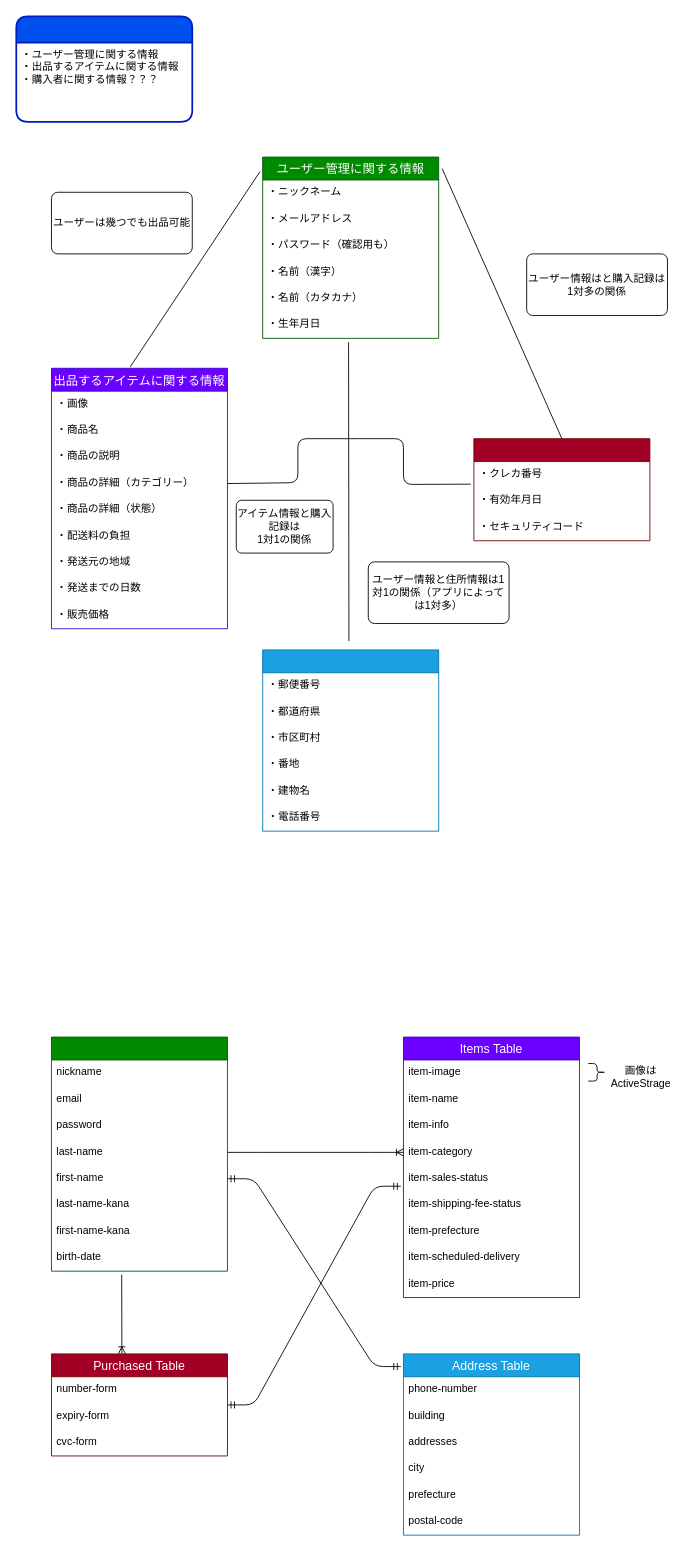
Image size: 691x1552. Some labels were removed from this diagram. Here are the shapes that lost their labels. From the top down, the box of each, then its label:
(15, 15, 193, 122): Entity
(473, 438, 650, 541): 購入記録に関する情報
(262, 649, 439, 831): 住所情報に関する情報
(51, 1036, 227, 1271): Users Table
